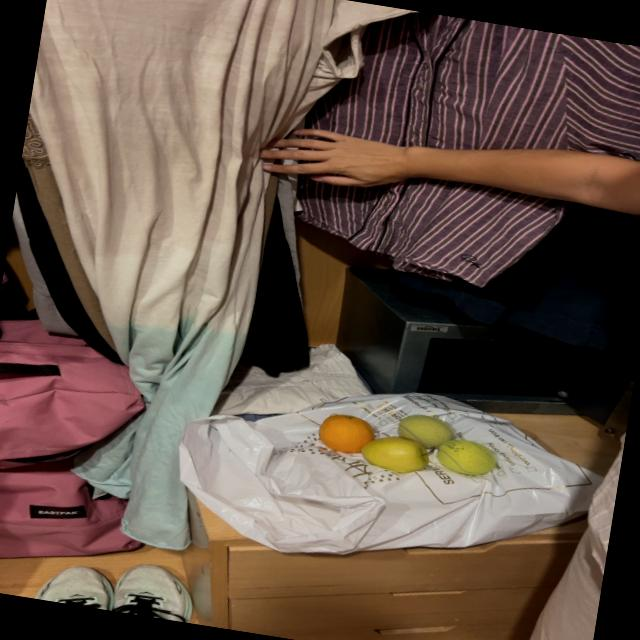apple: (362, 437, 427, 473)
orange: (318, 415, 373, 453)
